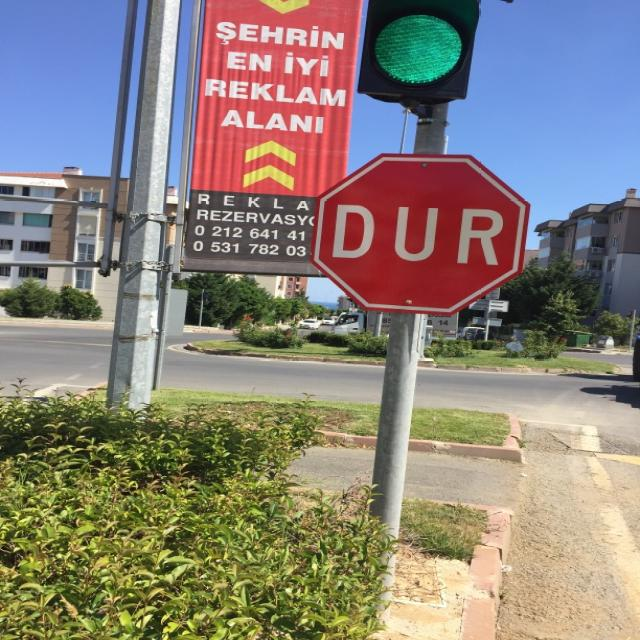dur: (311, 153, 531, 314)
yesil: (358, 1, 481, 94)
